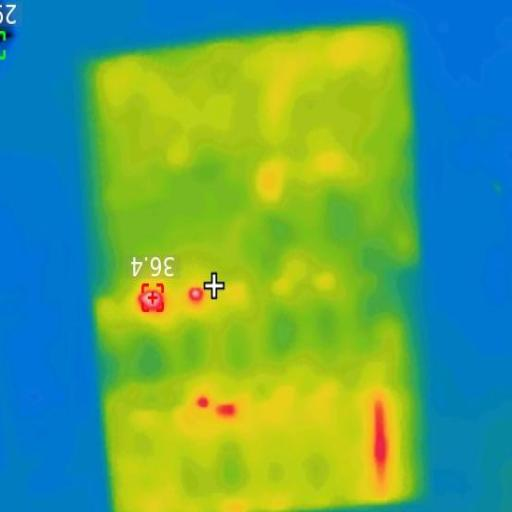hotspot: (368, 398, 389, 470), (139, 279, 162, 314), (186, 283, 204, 306), (215, 404, 236, 419), (192, 394, 206, 407)
